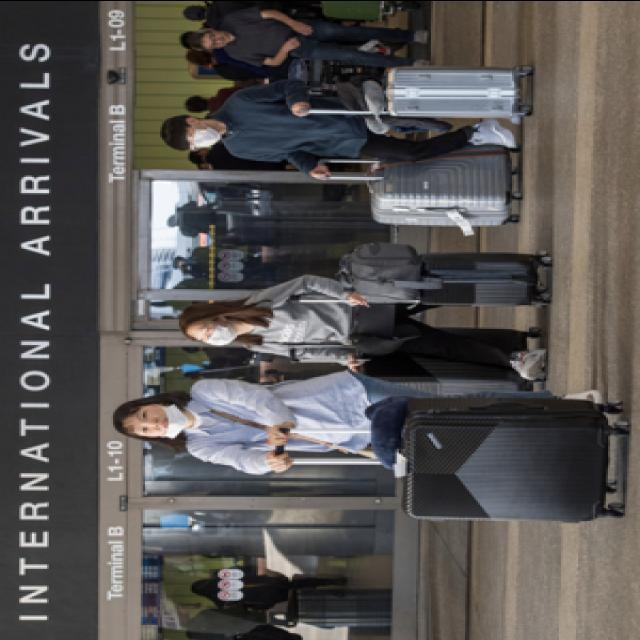mask: (192, 320, 243, 347), (182, 124, 222, 150)
no_mask: (130, 406, 192, 440), (200, 32, 228, 50)
